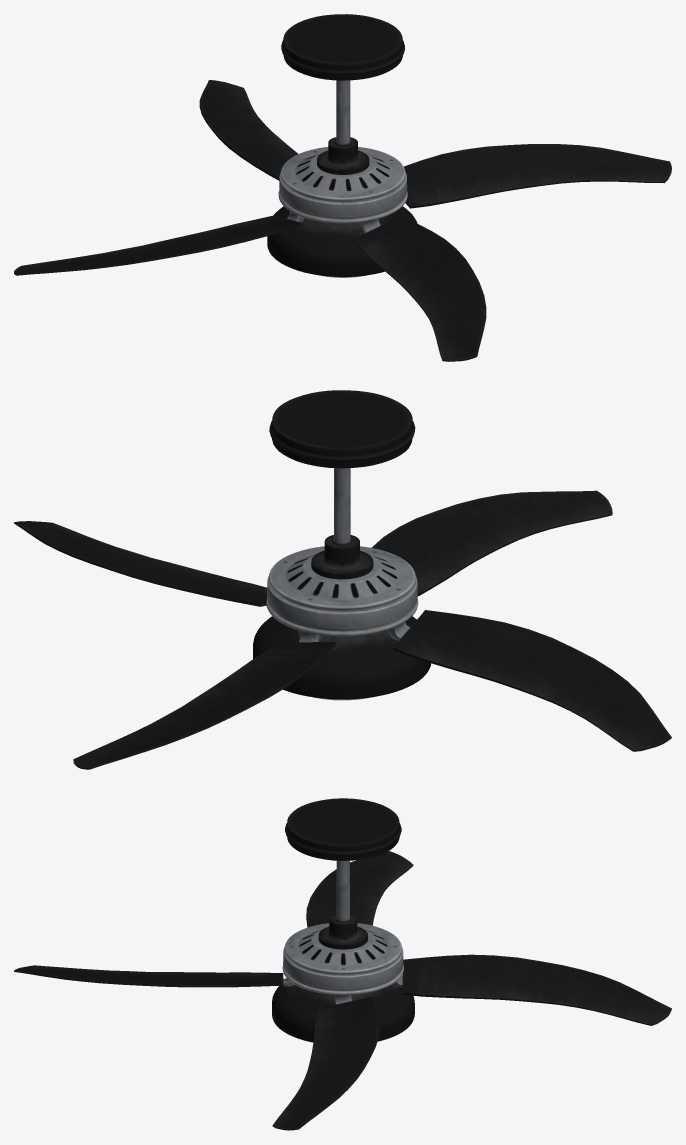
File: ceiling_fan.glb
3 views of the same model, one above another, from view 1: azimuth 30°, elevation 25°; view 2: azimuth 150°, elevation 25°; view 3: azimuth 270°, elevation 25° (orthographic). The views are drawn at different scales.
Visible parts, largest first — view 1: ceiling_fan_blades, ceiling_fan; view 2: ceiling_fan_blades, ceiling_fan; view 3: ceiling_fan_blades, ceiling_fan.
Part boxes in pixels (bbox=[...]): ceiling_fan_blades: bbox=[14, 80, 671, 361]; ceiling_fan: bbox=[267, 14, 417, 277]; ceiling_fan_blades: bbox=[14, 490, 671, 769]; ceiling_fan: bbox=[253, 390, 431, 700]; ceiling_fan_blades: bbox=[14, 851, 671, 1130]; ceiling_fan: bbox=[272, 798, 414, 1042].
Bounding box in the file's own units: 1.46 × 0.5163 × 1.46.
Materials: 1 (1 with a texture image).
